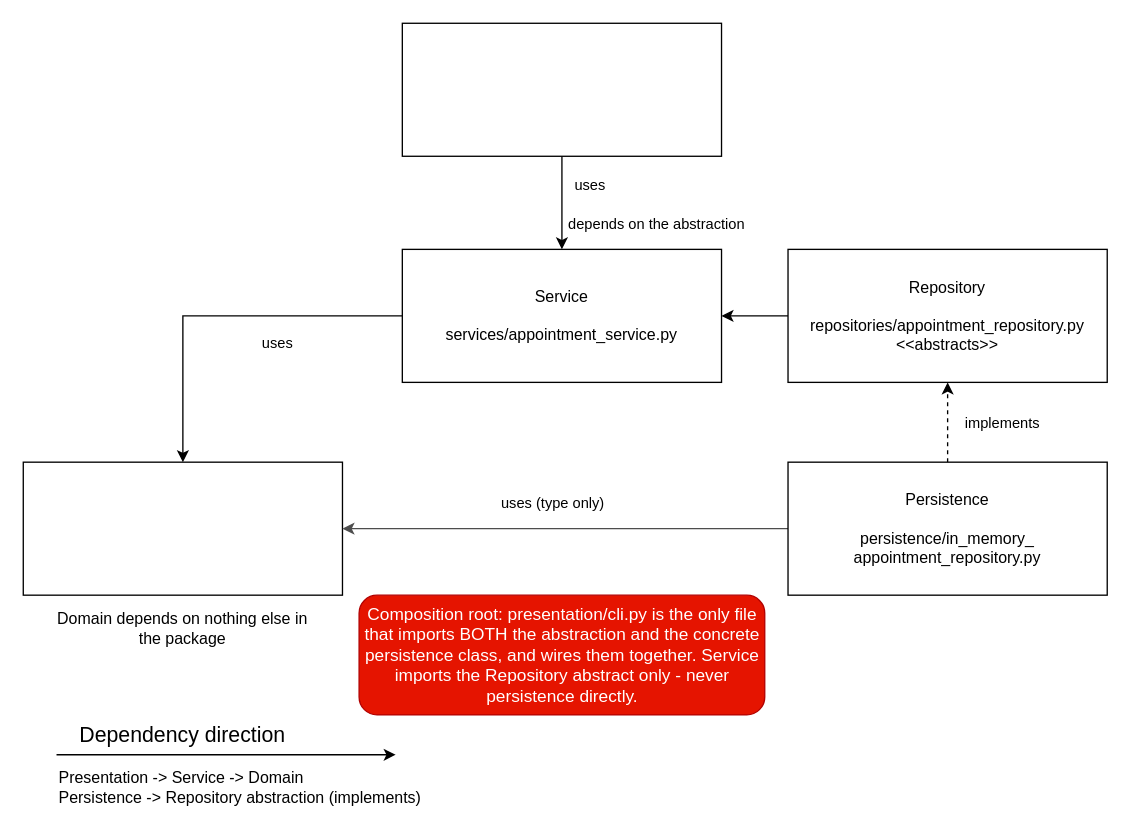
The diagram is 1131 pixels wide and 831 high, and some of its shapes have lost their labels. The shapes that lost their labels are listed below. From the top down, each one's centre as x and y in pixels, then its label:
(x=561, y=89): Presentation presentation/cli.py
(x=182, y=528): Domain domain/model.py
